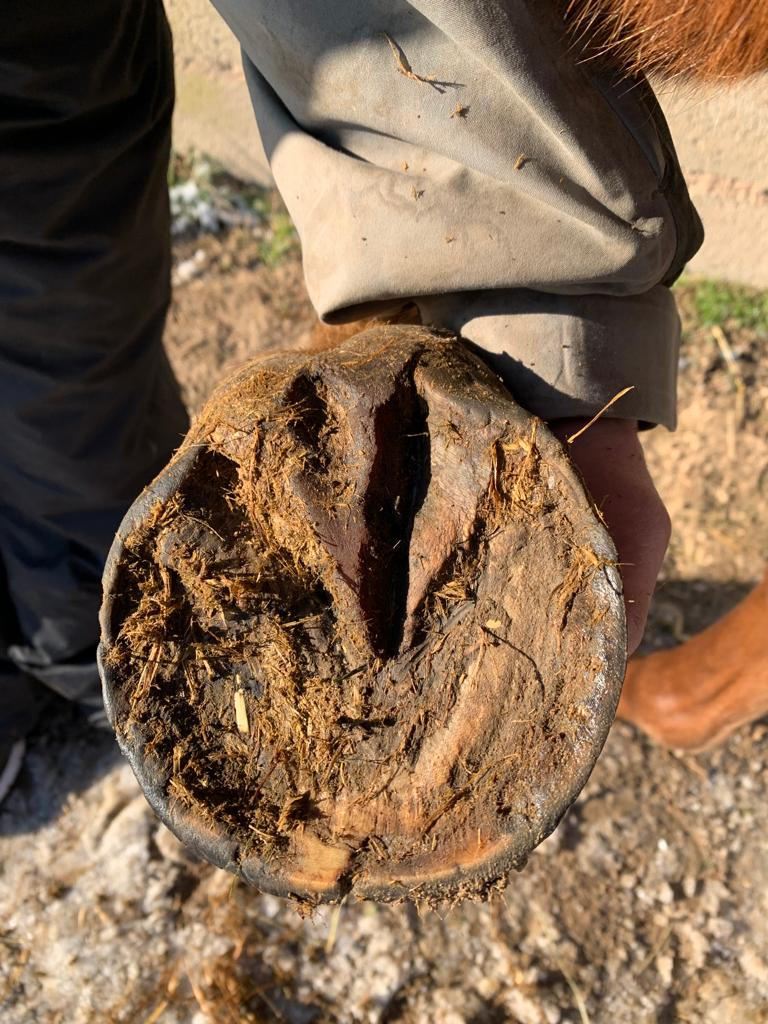horsesole: (95, 363, 627, 903)
